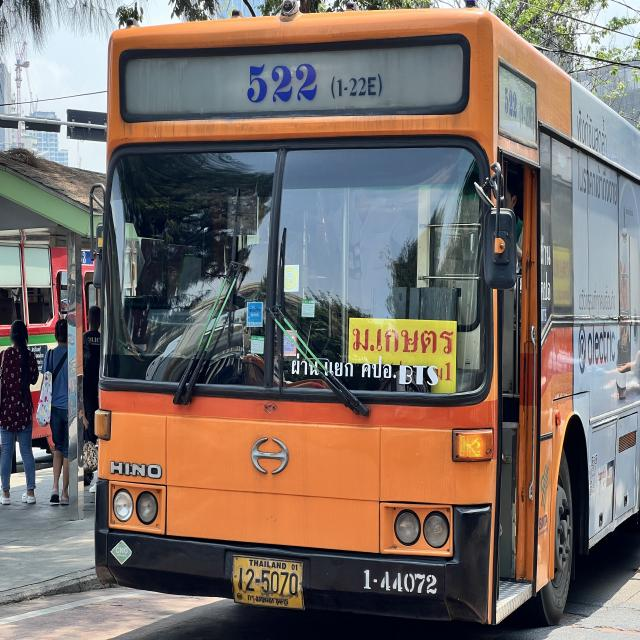BMTA-bus: (93, 8, 640, 628)
Bus-Line-Number: (237, 56, 387, 112)
Destination-Sign-Extra-Bus-Expressway: (346, 320, 458, 397)
